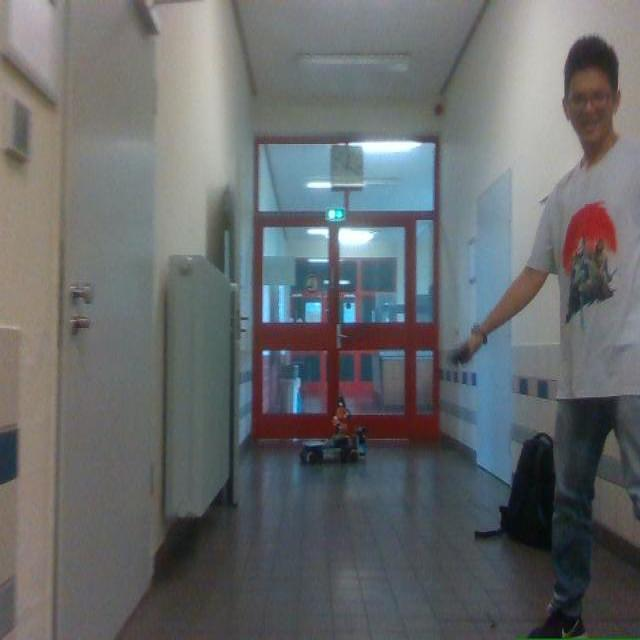humans: (452, 35, 639, 637)
objects: (475, 434, 554, 549)
